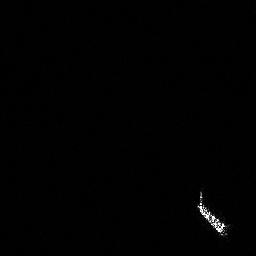ship: (197, 202, 226, 235)
